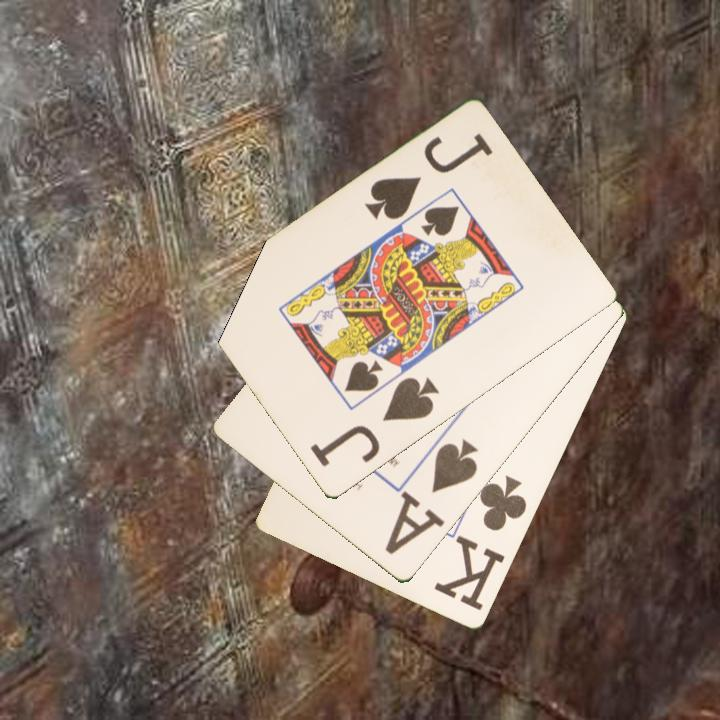As: (392, 436, 482, 546)
Js: (306, 373, 442, 471), (361, 130, 496, 224)
Kc: (431, 472, 530, 614)
